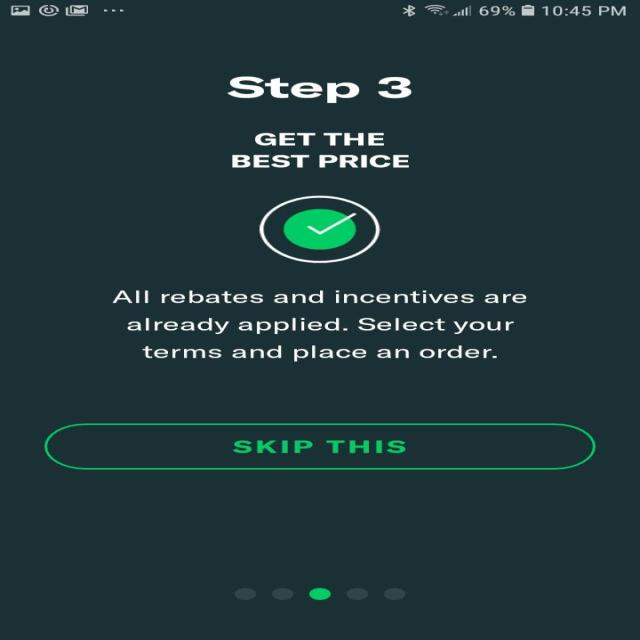Image: (258, 195, 380, 263)
Text: (111, 290, 526, 361), (231, 132, 409, 168), (226, 76, 412, 103)
TextButton: (43, 422, 596, 470)
